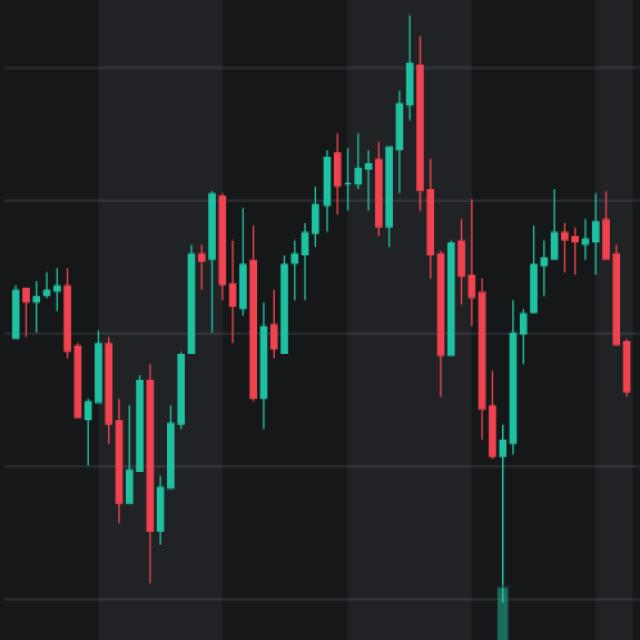Resistance-Emerging: (166, 183, 632, 472)
